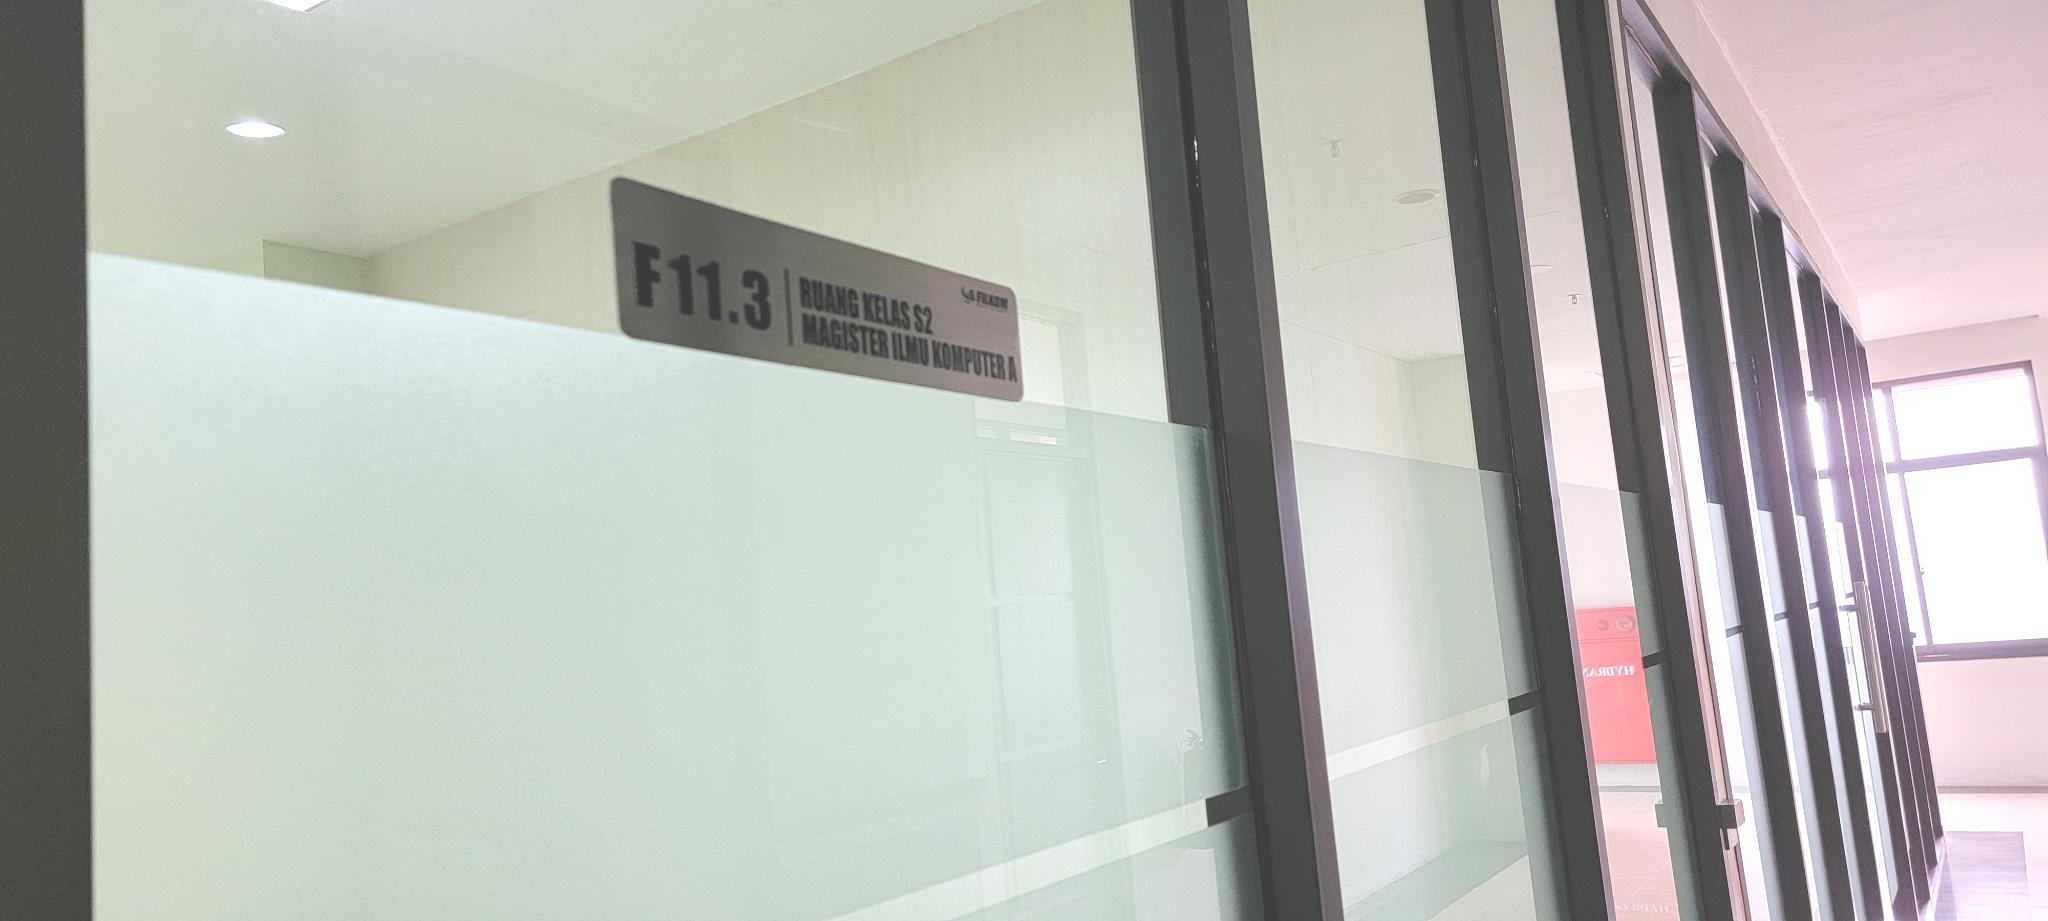plate: (610, 169, 1027, 406)
